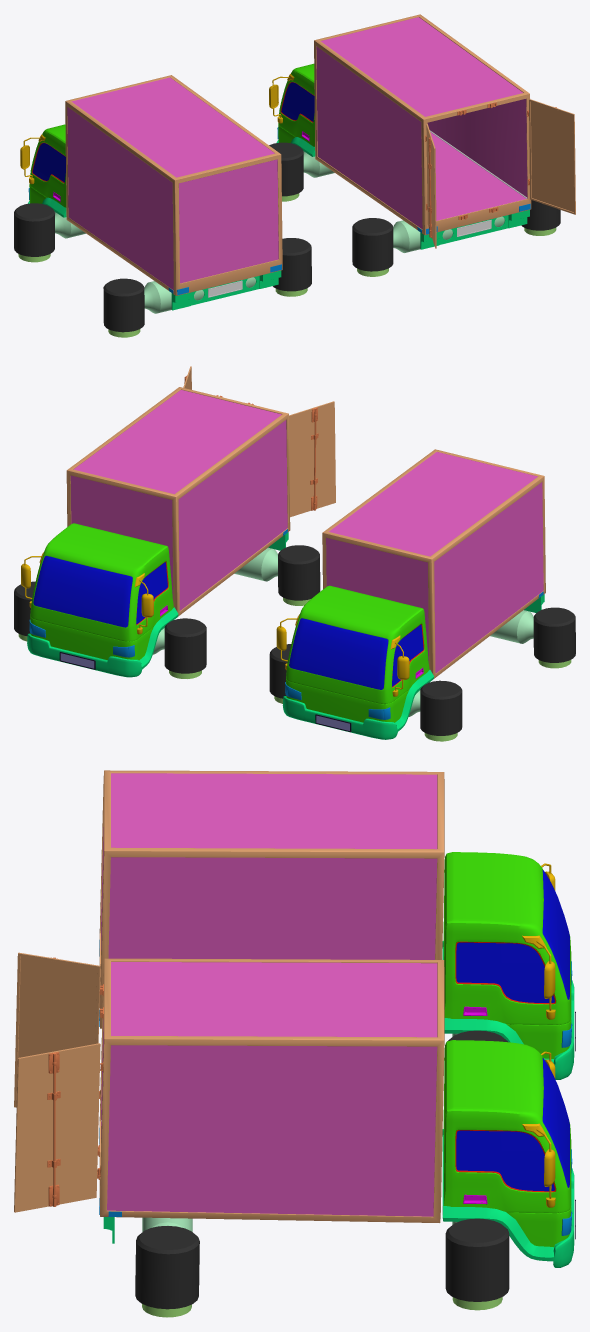
Rendered from Trucks.fbx.
3 views of the same model, one above another, from view 1: azimuth 30°, elevation 25°; view 2: azimuth 150°, elevation 25°; view 3: azimuth 270°, elevation 25° (orthographic). The views are drawn at different scales.
Visible parts, largest first — view 1: Truckopen, Truckclosed; view 2: Truckopen, Truckclosed; view 3: Truckopen, Truckclosed.
Boxes of the visible parts, bbox=[...] form: Truckopen: bbox=[269, 14, 575, 276]; Truckclosed: bbox=[14, 75, 311, 337]; Truckopen: bbox=[14, 366, 335, 678]; Truckclosed: bbox=[269, 449, 575, 741]; Truckopen: bbox=[14, 952, 575, 1317]; Truckclosed: bbox=[99, 770, 575, 1079].
Size of the model in its own units: 8.88 by 2.98 by 6.17.
